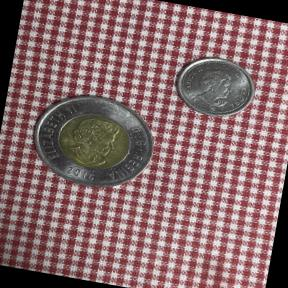coin: (22, 79, 166, 202), (163, 47, 263, 127)
